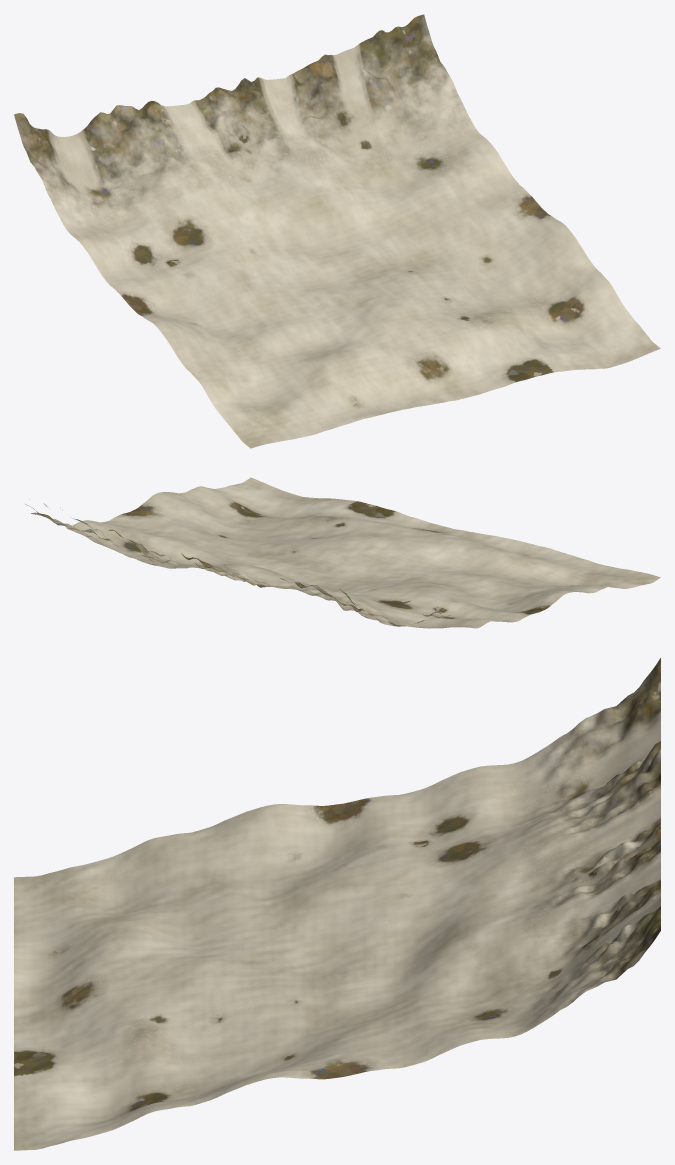
Rendered from ReefTerrain_Deep.gltf.
3 renders of one model, top to bottom at view 1: azimuth 30°, elevation 25°; view 2: azimuth 150°, elevation 25°; view 3: azimuth 270°, elevation 25°, orthographic. The views are drawn at different scales.
Parts seen in each view (by area): view 1: ReefTerrain_Deep; view 2: ReefTerrain_Deep; view 3: ReefTerrain_Deep.
Boxes of the visible parts, box(x1,y1,x2,y2) form: ReefTerrain_Deep: box(14, 14, 660, 448); ReefTerrain_Deep: box(25, 477, 660, 628); ReefTerrain_Deep: box(14, 658, 660, 1150).
Size of the model in its own units: 40 by 15.64 by 40.
1 material, 1 textured.
